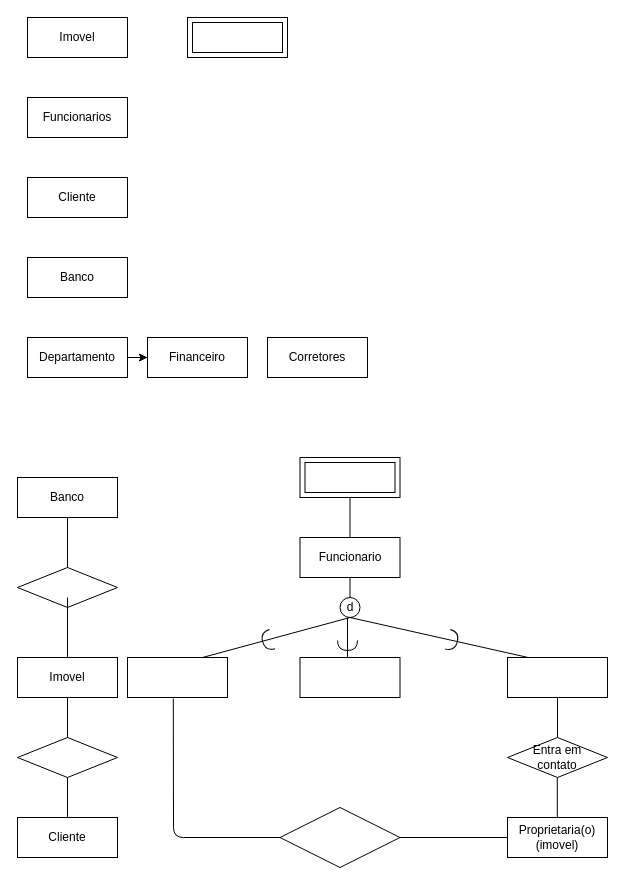
The diagram is 625 pixels wide and 885 high, and some of its shapes have lost their labels. Each missing label, with the centre of its shape:
"Atendente" goes at (x=349, y=677).
"Capitador" goes at (x=557, y=677).
"Contato direto" goes at (x=339, y=837).
"Corretor" goes at (x=177, y=677).
"Fiancia" goes at (x=67, y=757).
"Financiado" goes at (x=67, y=587).
"Imobiliaria" goes at (x=349, y=477).
